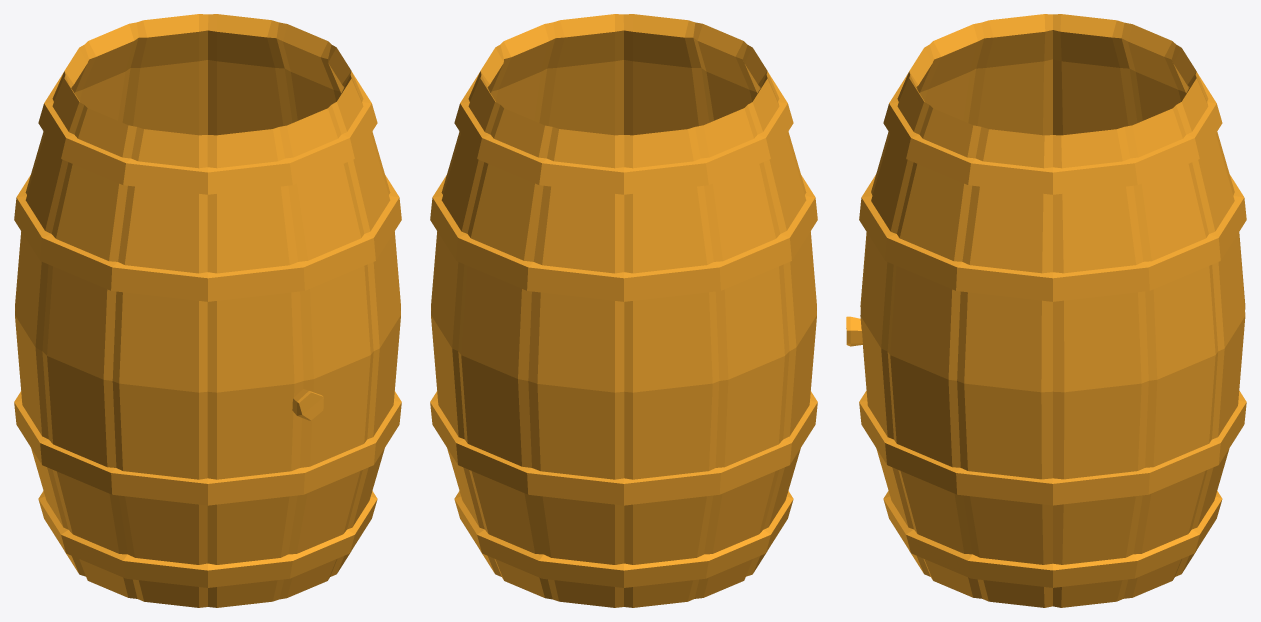
The model's file is SM_Barrel_Wood_Open.fbx.
3 views of the same model, side by side, from view 1: azimuth 30°, elevation 25°; view 2: azimuth 150°, elevation 25°; view 3: azimuth 270°, elevation 25° (orthographic).
Visible parts, largest first — view 1: barrel-wood-open; view 2: barrel-wood-open; view 3: barrel-wood-open.
Boxes of the visible parts, box(x1,y1,x2,y2) form: barrel-wood-open: box(14, 14, 401, 607); barrel-wood-open: box(430, 14, 817, 607); barrel-wood-open: box(846, 14, 1246, 607).
Bounding box in the file's own units: 0.8922 × 1.2 × 0.9218.
